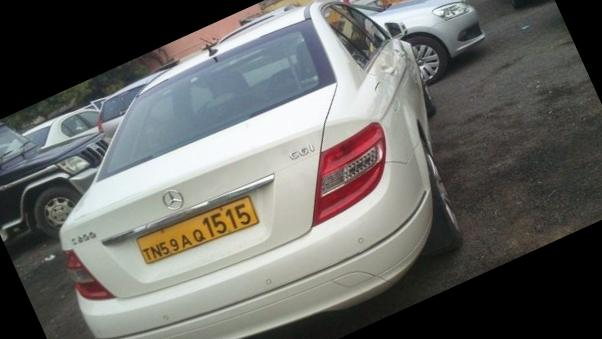plate: (117, 173, 274, 282)
